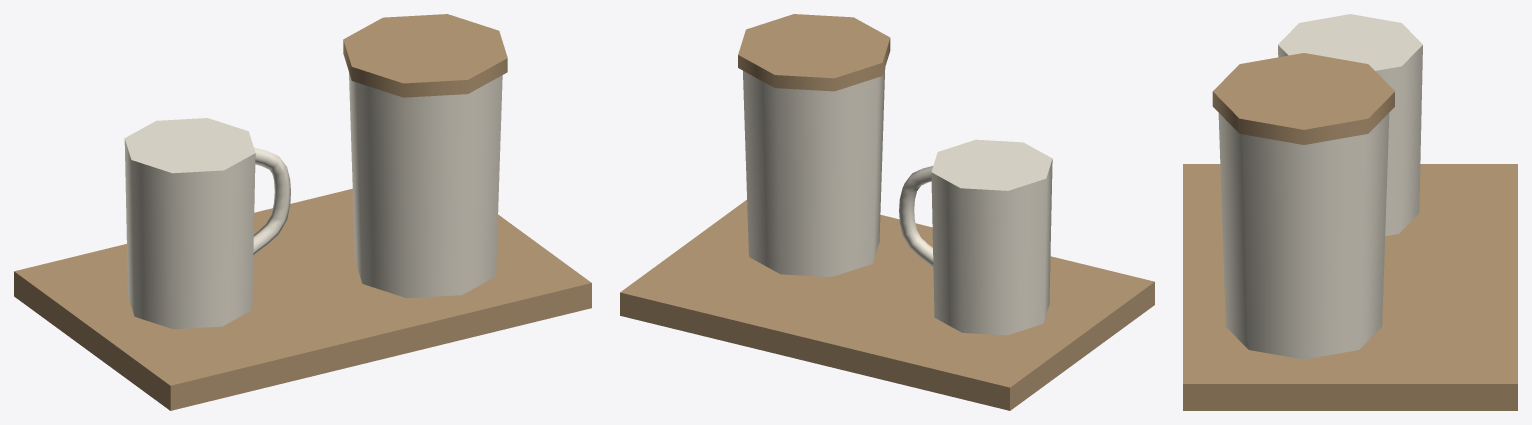
The model's file is counter-set-lightweight-44a98a14d9.glb.
3 renders of one model, left to right at view 1: azimuth 30°, elevation 25°; view 2: azimuth 150°, elevation 25°; view 3: azimuth 270°, elevation 25°, orthographic. The views are drawn at different scales.
Visible parts, largest first — view 1: oak, ceramic; view 2: oak, ceramic; view 3: oak, ceramic.
Boxes of the visible parts, box(x1,y1,x2,y2) form: oak: box(14, 14, 591, 410); ceramic: box(124, 72, 502, 329); oak: box(620, 14, 1154, 410); ceramic: box(743, 68, 1052, 335); oak: box(1183, 53, 1517, 410); ceramic: box(1218, 14, 1422, 359).
Bounding box in the file's own units: 0.28 × 0.1555 × 0.18.
